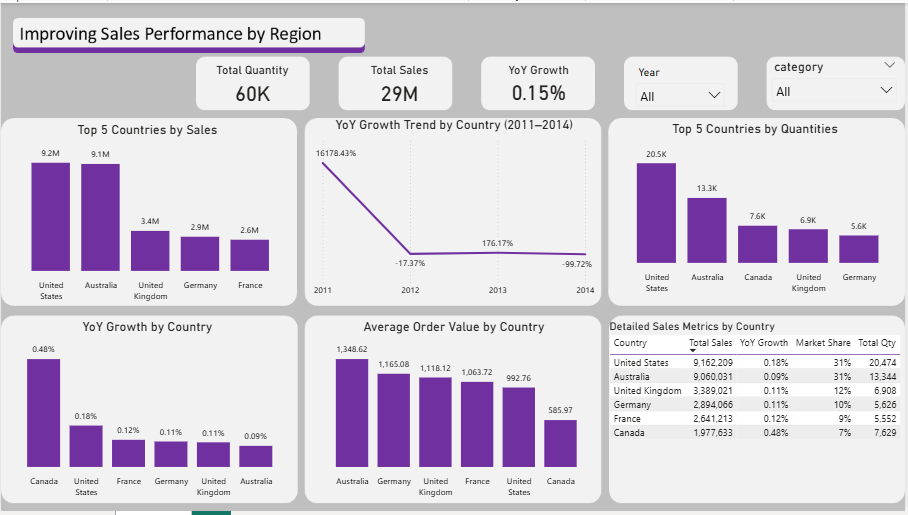

Layout of this report page (visuals, bound fields, positions):
{"tool":"powerbi","page":{"name":"Dashboard","canvas":[1280,720],"ordinal":0},"visuals":[{"type":"card","title":"Total Quantity","fields":{"Values":["Measure_Table.Total Quantity"]},"box":[284.9,85,143.1,63.8],"z":0},{"type":"card","title":"Total Sales","fields":{"Values":["Measure_Table.total_sales"]},"box":[487.6,85,154.5,63.8],"z":1000},{"type":"card","title":"YoY Growth","fields":{"Values":["Measure_Table.YoY_Growth"]},"box":[687.4,85,148.8,60.9],"z":2000},{"type":"tableEx","title":"Detailed Sales Metrics by Country","fields":{"Values":["dim_customers.country","Measure_Table.total_sales","Measure_Table.YoY_Growth","Measure_Table.Market Share","Measure_Table.Total Quantity"]},"box":[857.5,447.9,422.4,260.8],"z":3000},{"type":"columnChart","title":"Top 5 Countries by Sales","fields":{"Y":["Measure_Table.total_sales"],"Category":["dim_customers.country"]},"box":[0,168.7,415.3,262.2],"z":4000},{"type":"columnChart","title":"YoY Growth by Country","fields":{"Y":["Measure_Table.YoY_Growth_percent"],"Category":["dim_customers.country"]},"box":[0,447.9,415.3,260.8],"z":5000},{"type":"columnChart","title":"Top 5 Countries by Quantities","fields":{"Category":["dim_customers.country"],"Y":["Measure_Table.Total Quantity"]},"box":[857.5,167.2,422.4,252.3],"z":6000},{"type":"slicer","fields":{"Values":["date_table.Year"]},"box":[890.1,83.6,146,65.2],"z":7000},{"type":"slicer","fields":{"Values":["dim_products.category"]},"box":[1082.8,73.7,197,75.1],"z":8000},{"type":"lineChart","title":"YoY Growth Trend by Country (2011–2014)","fields":{"Y":["Measure_Table.YoY_Growth_percent"],"Category":["date_table.Year"]},"box":[438,161.6,408.2,263.6],"z":9000},{"type":"columnChart","title":"Average Order Value by Country","fields":{"Y":["Measure_Table.AOV"],"Category":["dim_customers.country"]},"box":[438,447.9,408.2,260.8],"z":10000}]}

Visuals, with their boxes in screenshot pixels (x1, y1, x2, y2), scaled from the page's 1280x720 canvas onto the 908x515 screenshot:
"Total Quantity" card: 202,61,304,106
"Total Sales" card: 346,61,455,106
"YoY Growth" card: 488,61,593,104
"Detailed Sales Metrics by Country" tableEx: 608,320,907,507
"Top 5 Countries by Sales" columnChart: 0,121,295,308
"YoY Growth by Country" columnChart: 0,320,295,507
"Top 5 Countries by Quantities" columnChart: 608,120,907,300
slicer - date_table.Year: 631,60,735,106
slicer - dim_products.category: 768,53,907,106
"YoY Growth Trend by Country (2011–2014)" lineChart: 311,116,600,304
"Average Order Value by Country" columnChart: 311,320,600,507
